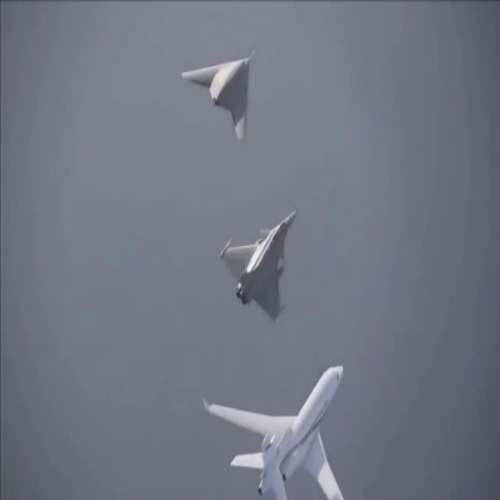uav883: (181, 47, 253, 141)
